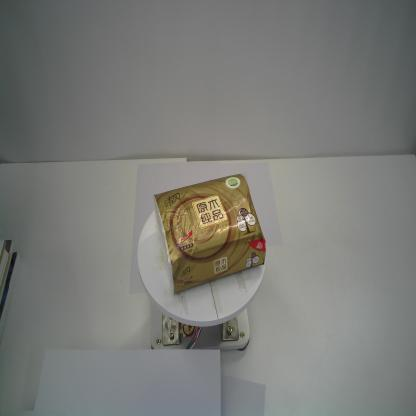Tissue: (153, 172, 266, 298)
